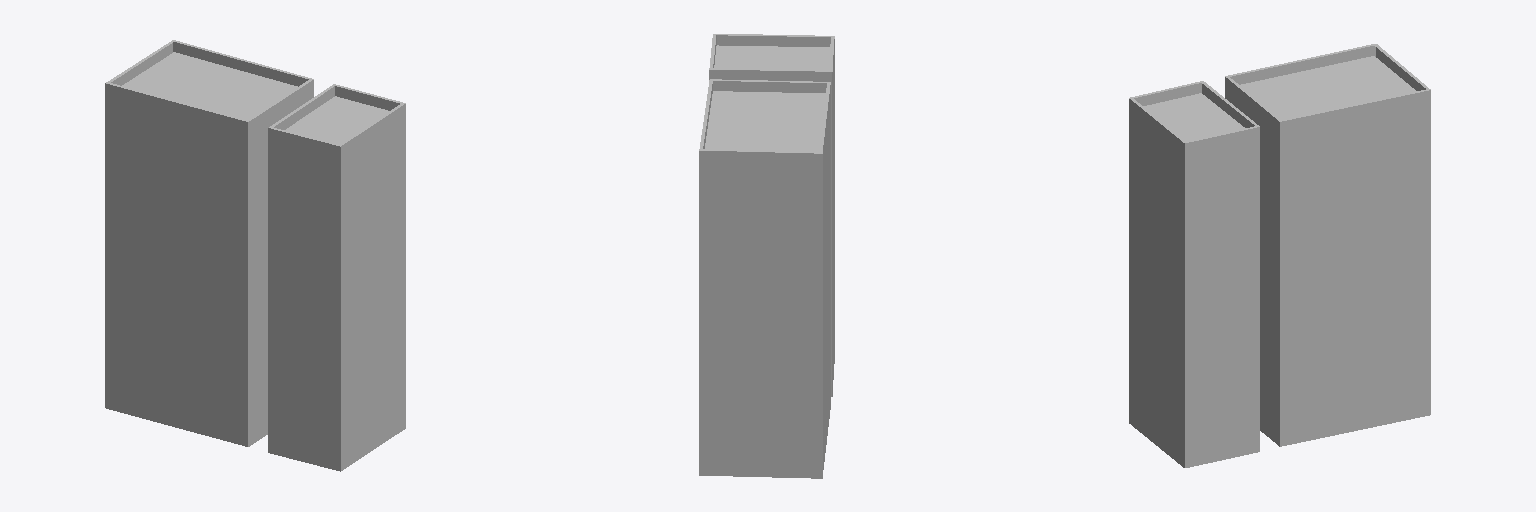
Rendered from multifamily_5.obj.
The picture shows the model from 3 angles: view 1: azimuth 30°, elevation 25°; view 2: azimuth 150°, elevation 25°; view 3: azimuth 270°, elevation 25°; orthographic projection.
Visible parts, largest first — view 1: object_1; view 2: object_1; view 3: object_1.
Boxes of the visible parts, <box> form: object_1: <box>105,40,405,471</box>; object_1: <box>699,34,834,478</box>; object_1: <box>1129,44,1430,467</box>.
Size of the model in its own units: 63.44 by 96 by 81.